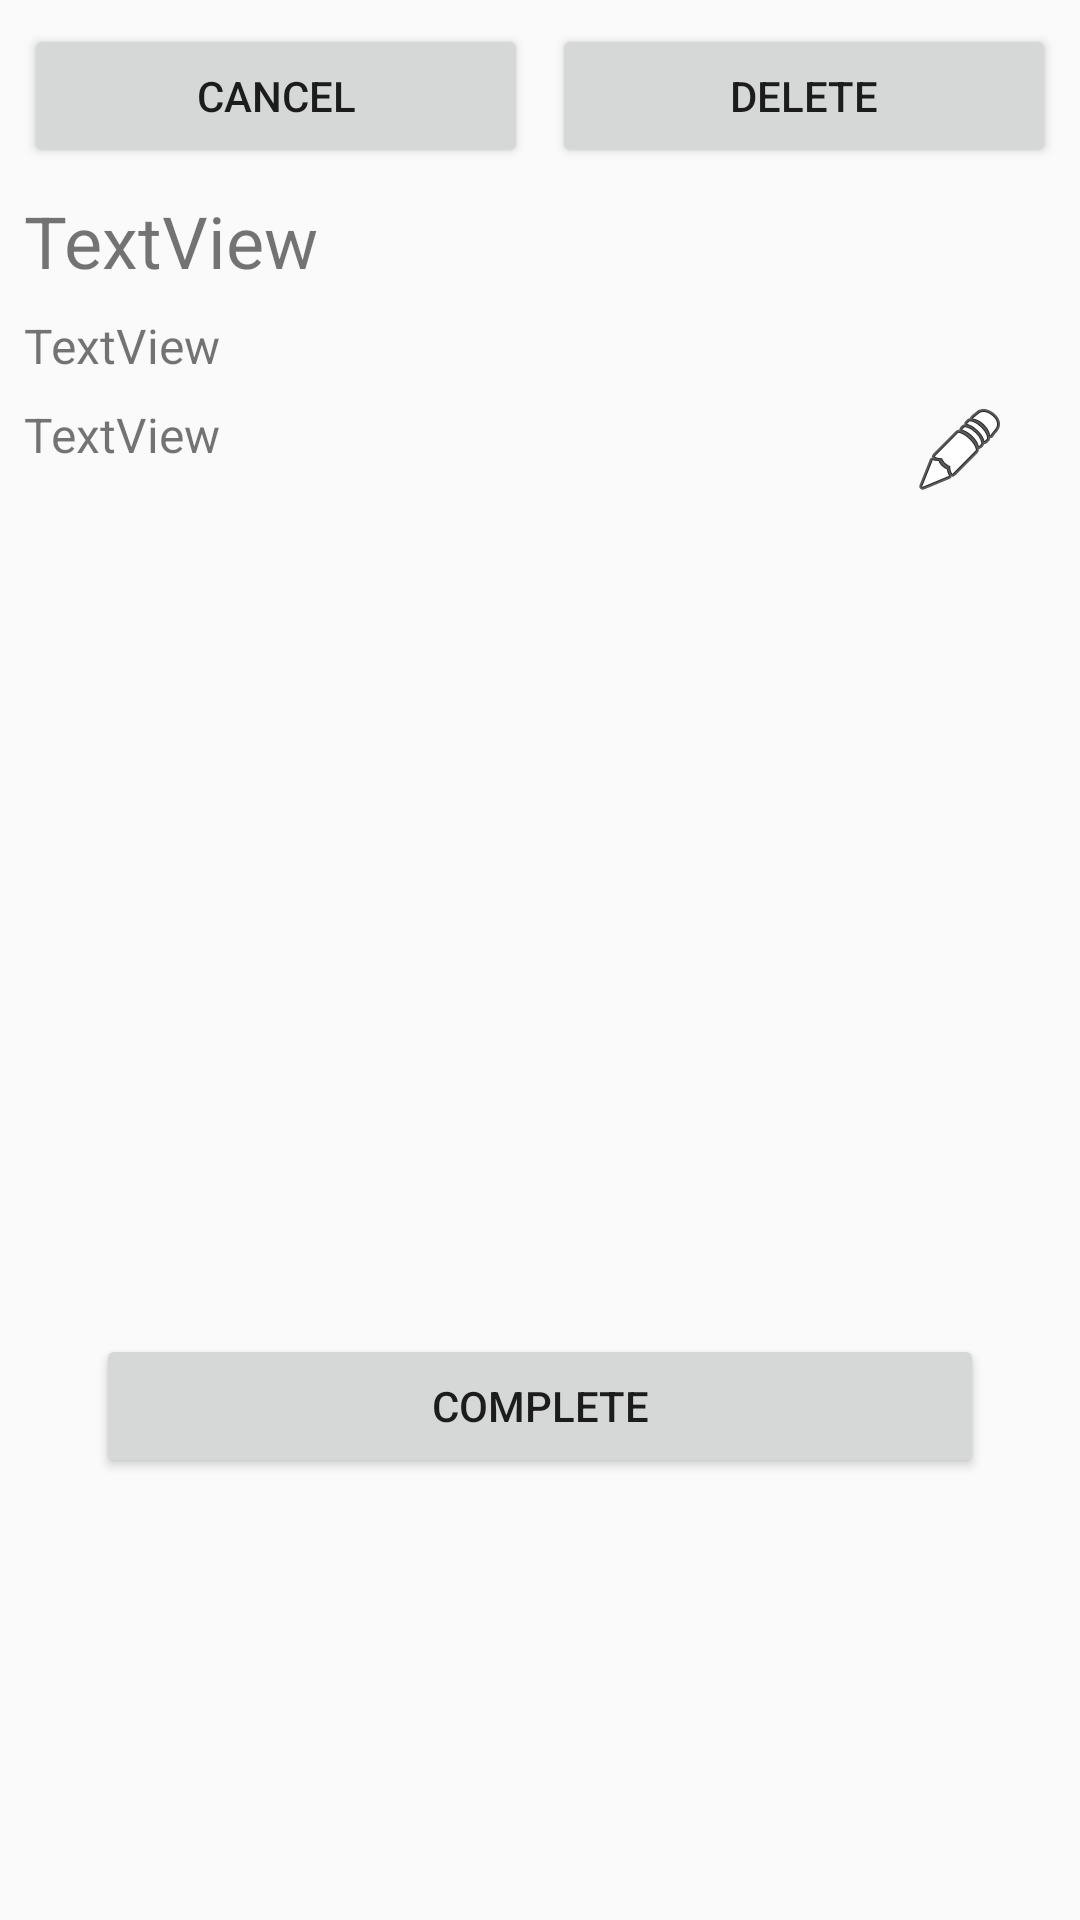

Icons on this 1080w x 1920h Android screen, each with the point to tap as point (x, y):
edit: point (959, 449)
